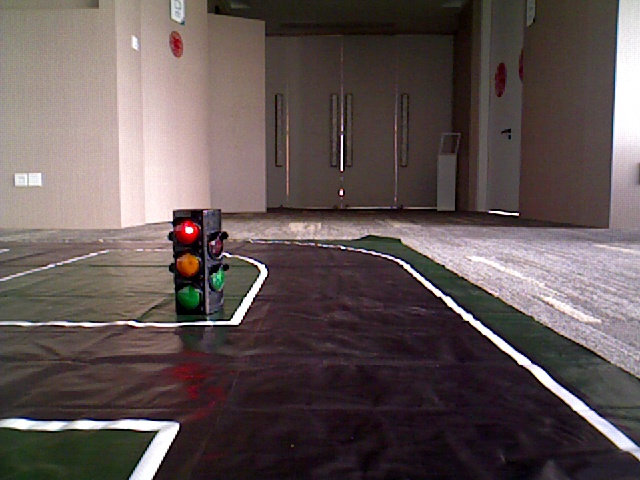red: (175, 211, 206, 309)
